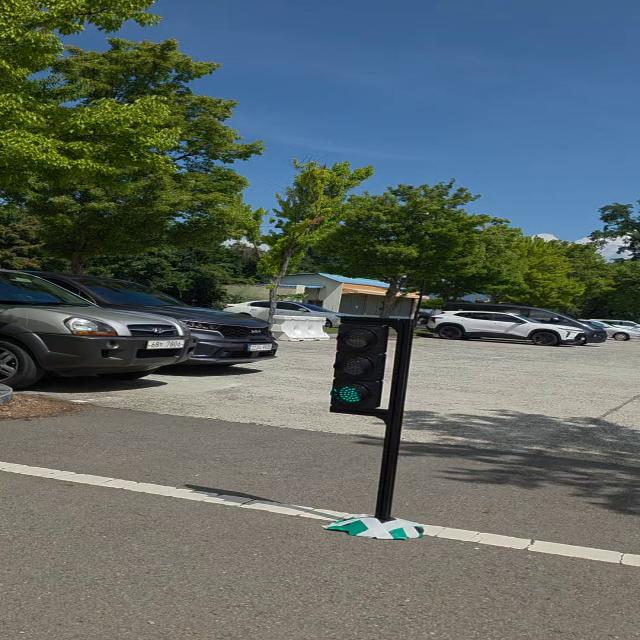green: (328, 316, 390, 412)
